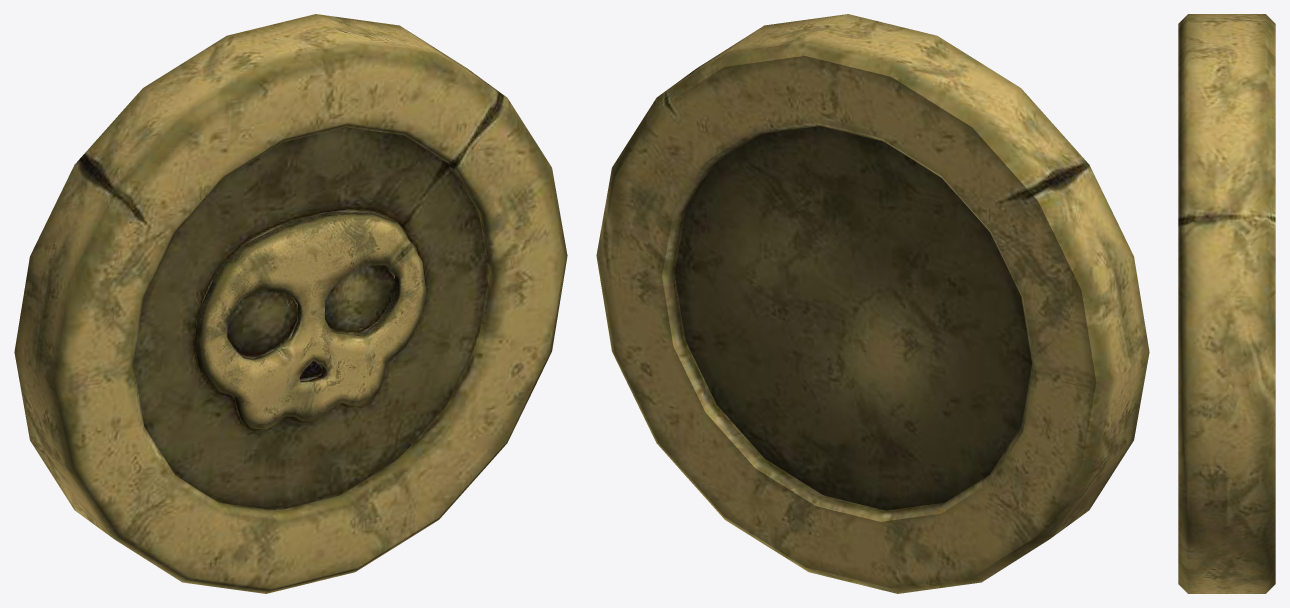
The model's file is coin.fbx.
3 renders of one model, left to right at view 1: azimuth 30°, elevation 25°; view 2: azimuth 150°, elevation 25°; view 3: azimuth 270°, elevation 25°, orthographic.
Visible parts, largest first — view 1: model; view 2: model; view 3: model.
Part boxes in pixels (x1=…): model: x1=14, y1=14, x2=567, y2=593; model: x1=596, y1=14, x2=1149, y2=593; model: x1=1178, y1=14, x2=1275, y2=593.
Size of the model in its own units: 209 by 206 by 34.92.
Materials: 1 (1 with a texture image).
